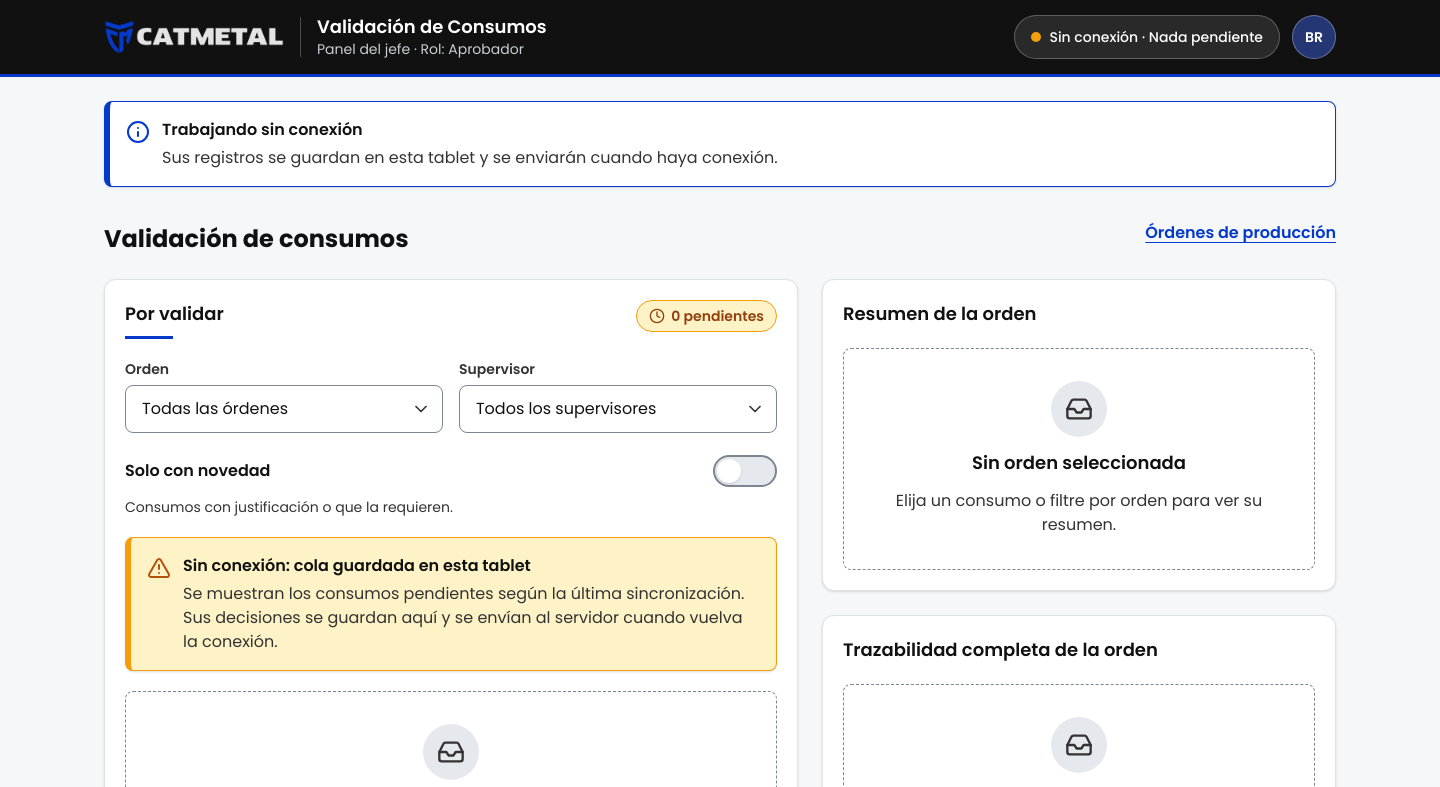
Test: menú de la cuenta › cancelar no cierra la sesión
Expected: the heading "Validación de consumos" is shown, [104,223,408,255]
What coordinates should you click on to do the following:
click the button with aria-label "Cuenta de Beto Ruiz, Jefe de producción, iniciales BR"
I would click on:
 (1314, 37)
Its box is [1292,15,1336,59].
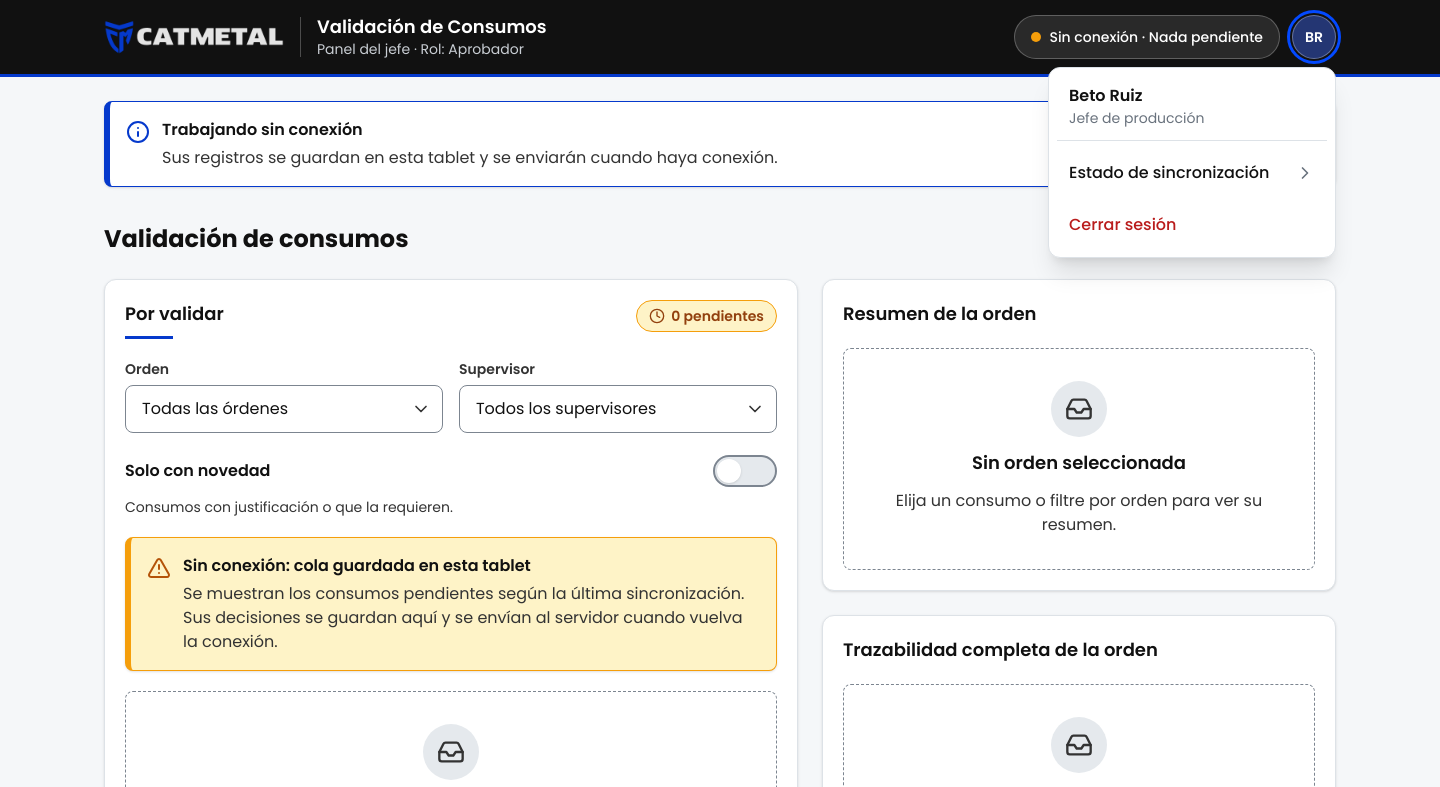
What coordinates should you click on to do the following:
click the button "Cerrar sesión"
I would click on:
 (1123, 224)
Its box is [1057,201,1327,249].
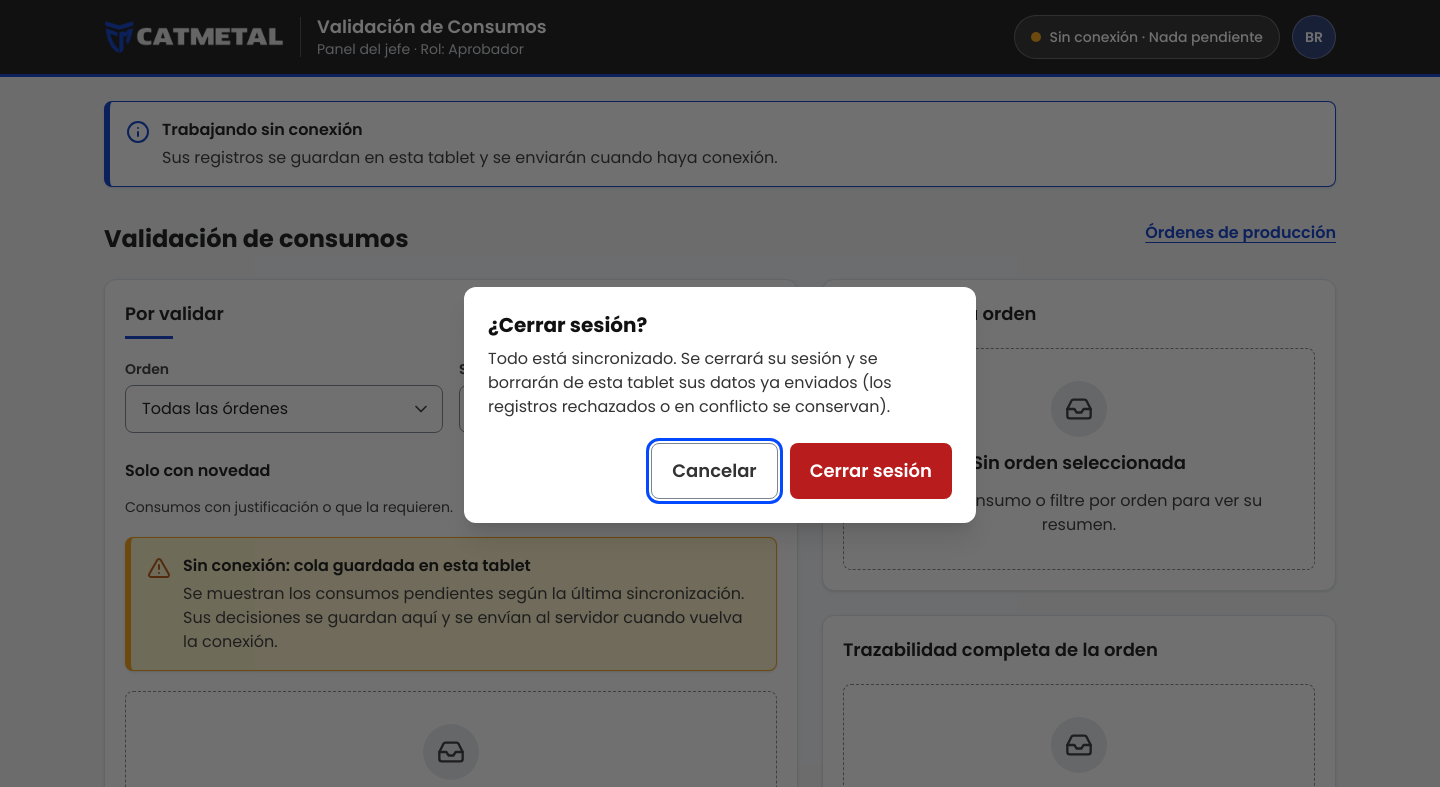
What coordinates should you click on to do the following:
click the button "Cancelar"
I would click on:
 (714, 471)
Its box is [651,443,778,499].
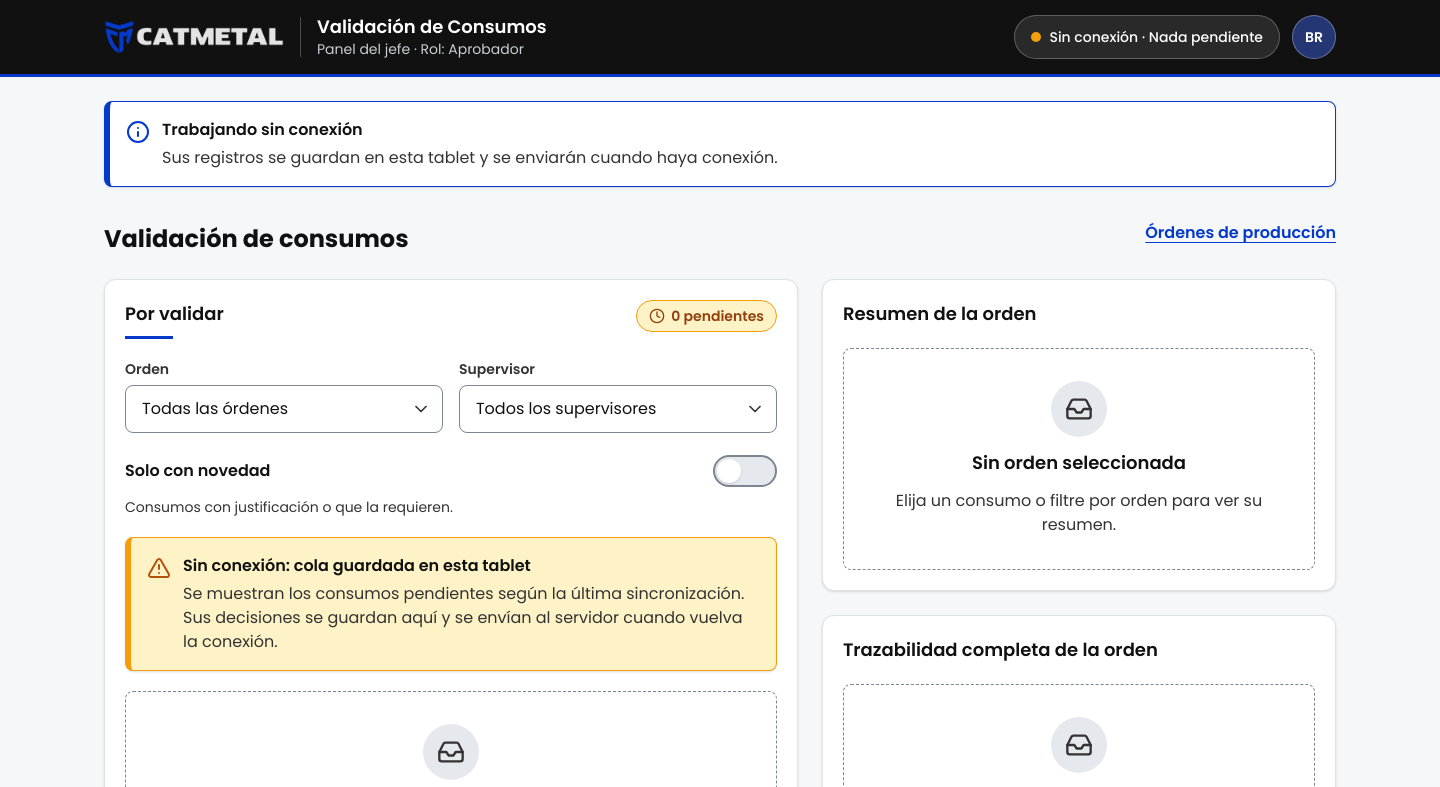
Now the dialog is gone
